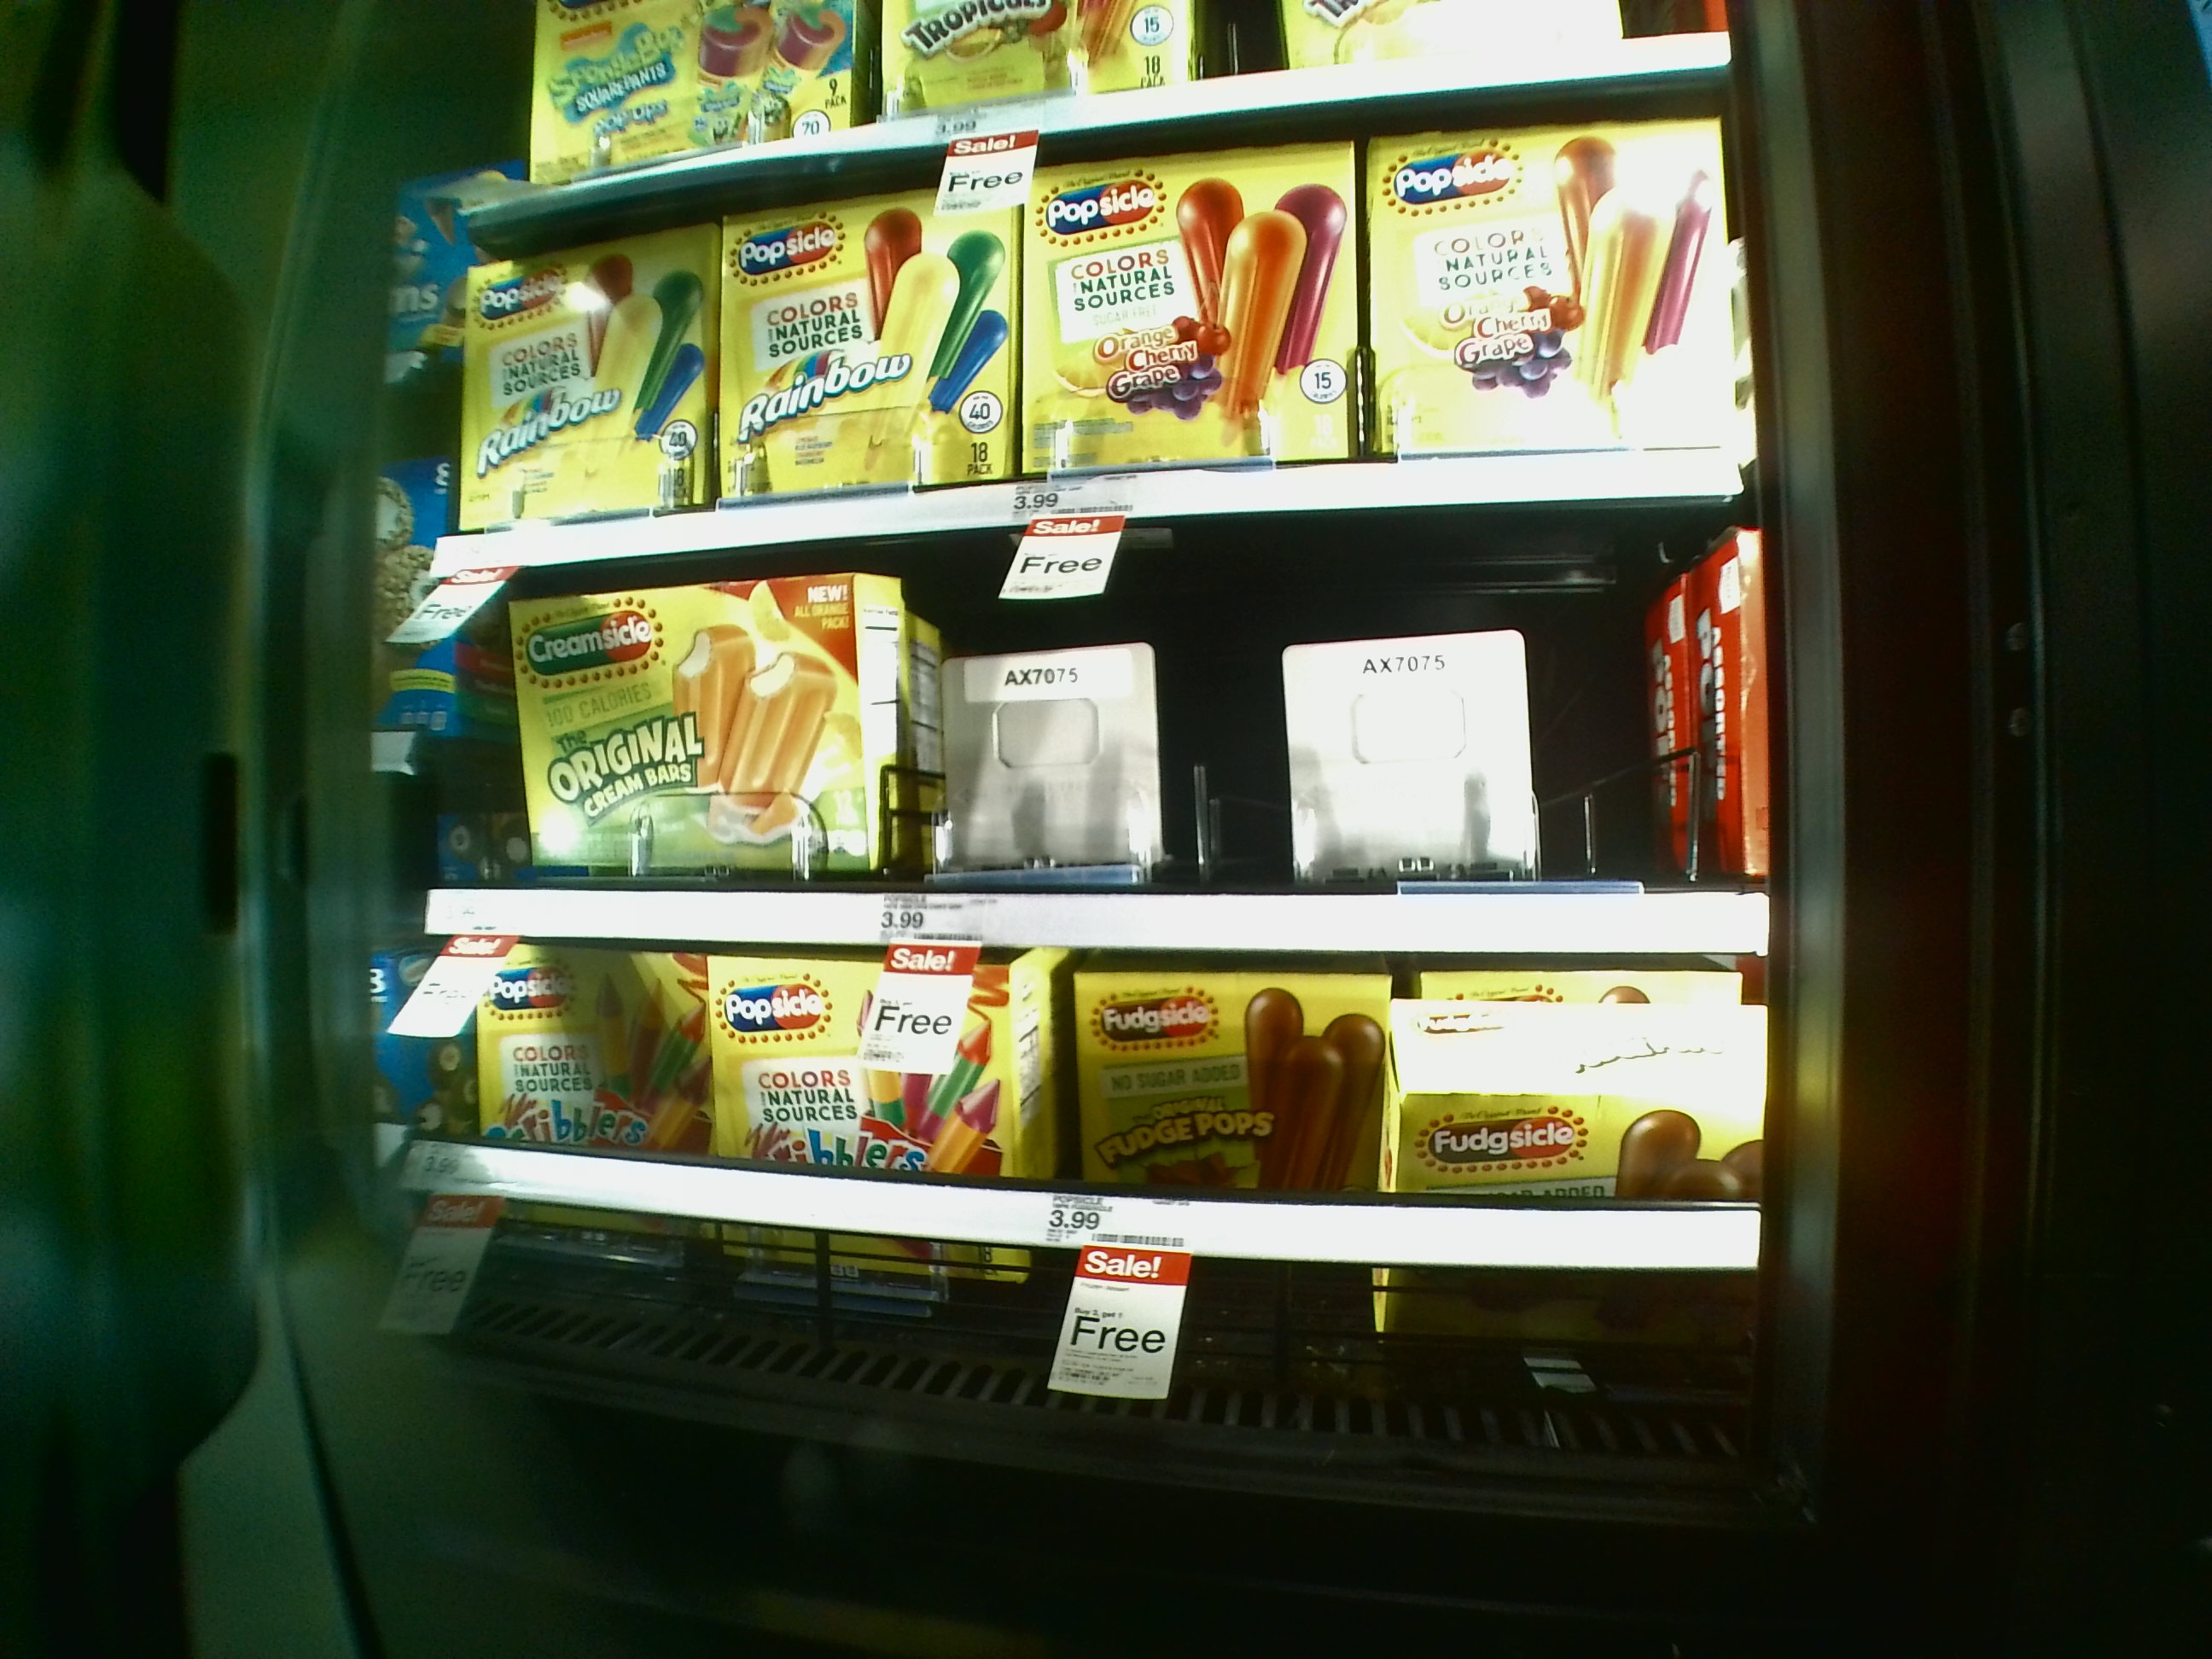shelf: (428, 948, 1756, 1427), (427, 98, 1763, 549), (420, 561, 1757, 953)
